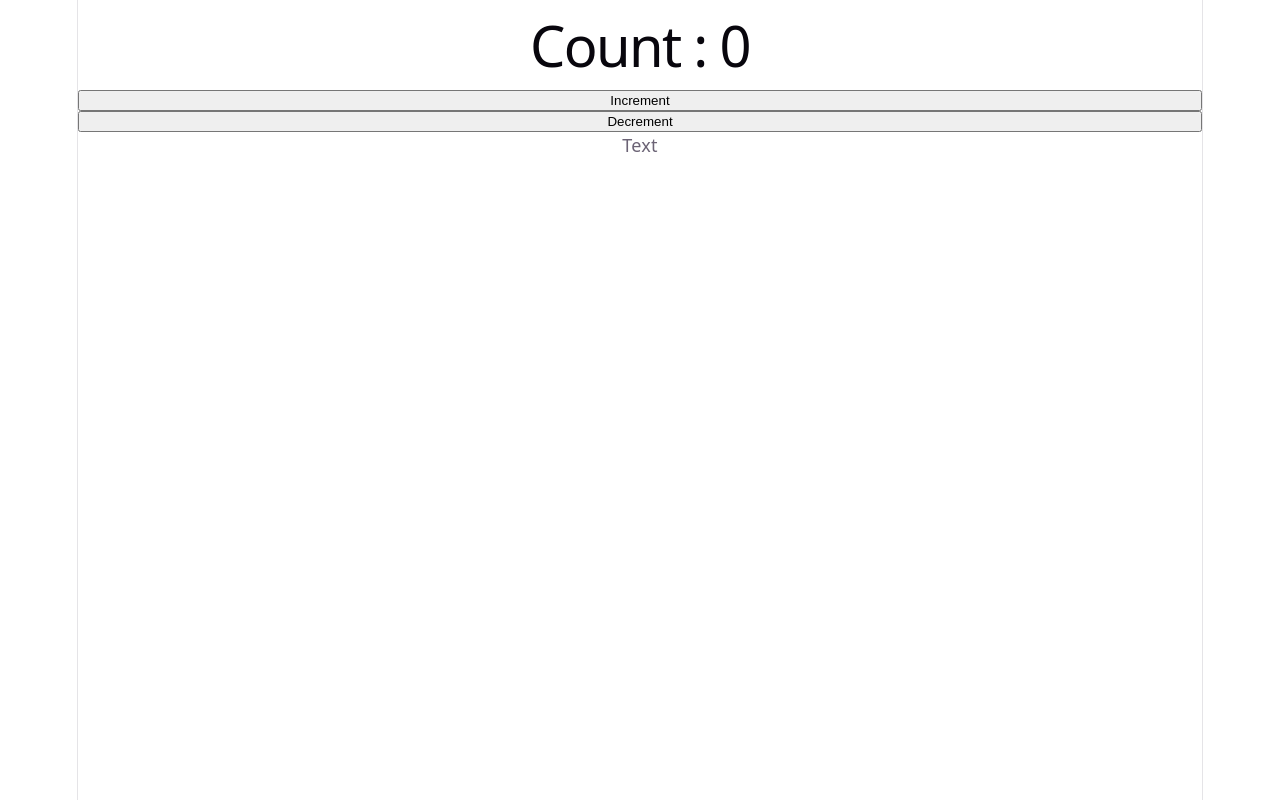
Test case: check dec for button click
Step 1. Click the button "Decrement" → coordinates (640, 122), box [78,111,1202,132]
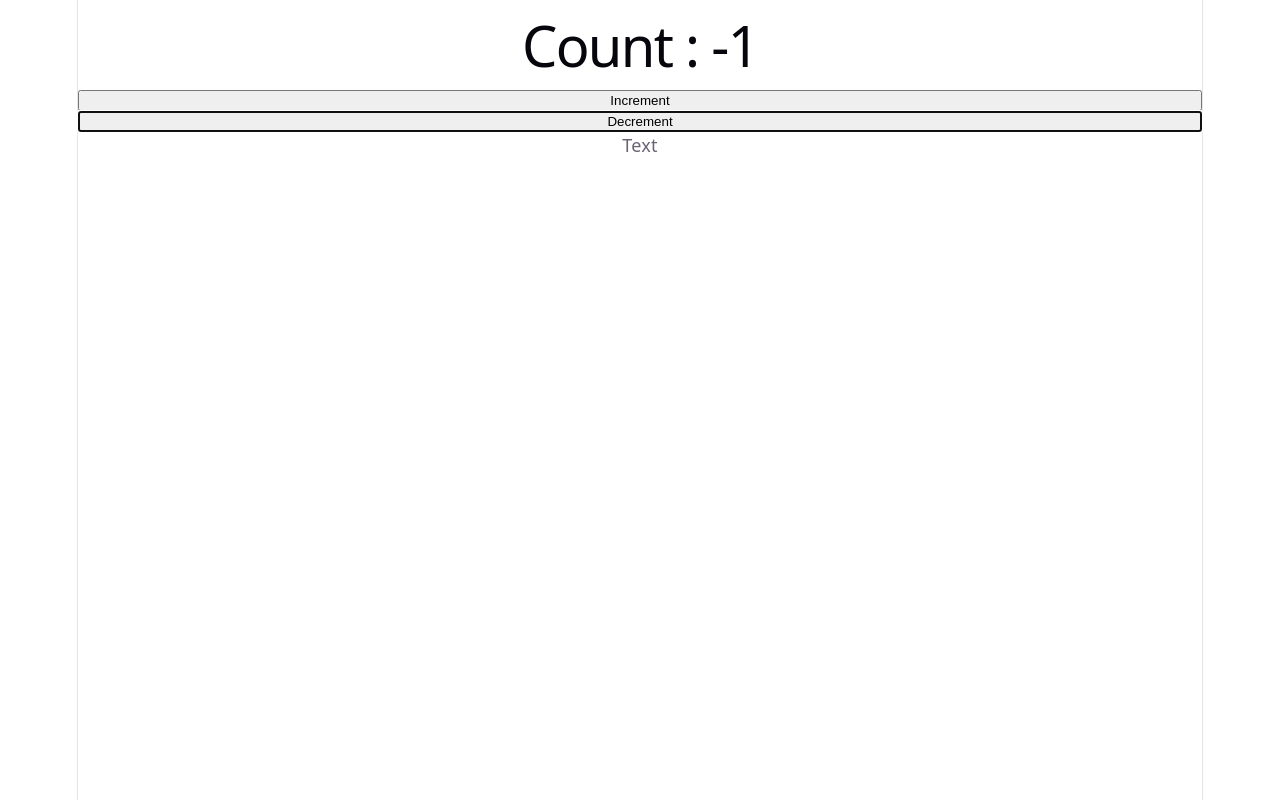
Check: the heading with test id "h1-counter-props" reads "Count : -1", box [522,7,758,83]
